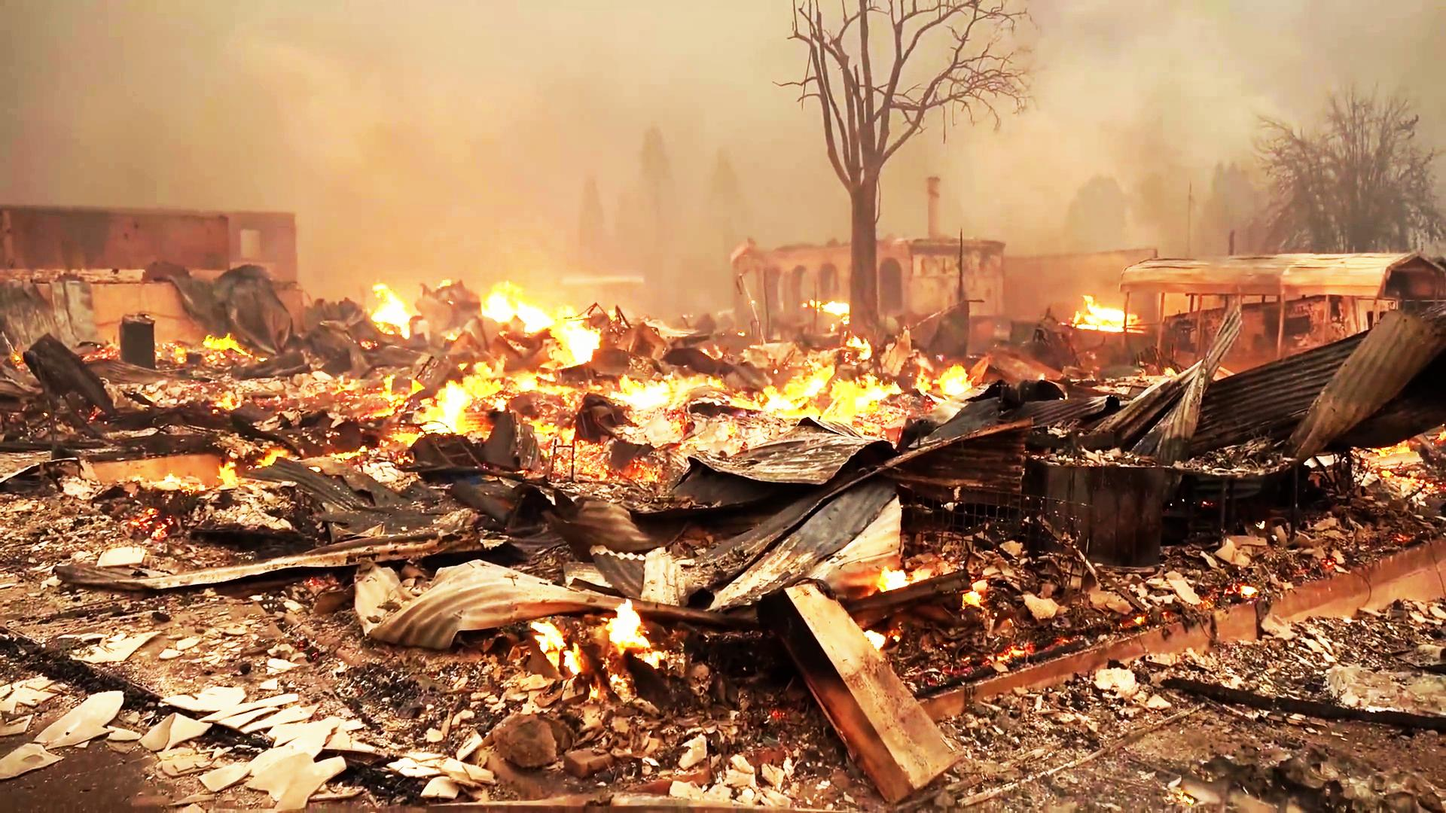fire: (767, 328, 909, 428), (484, 258, 590, 357), (411, 350, 508, 434)
